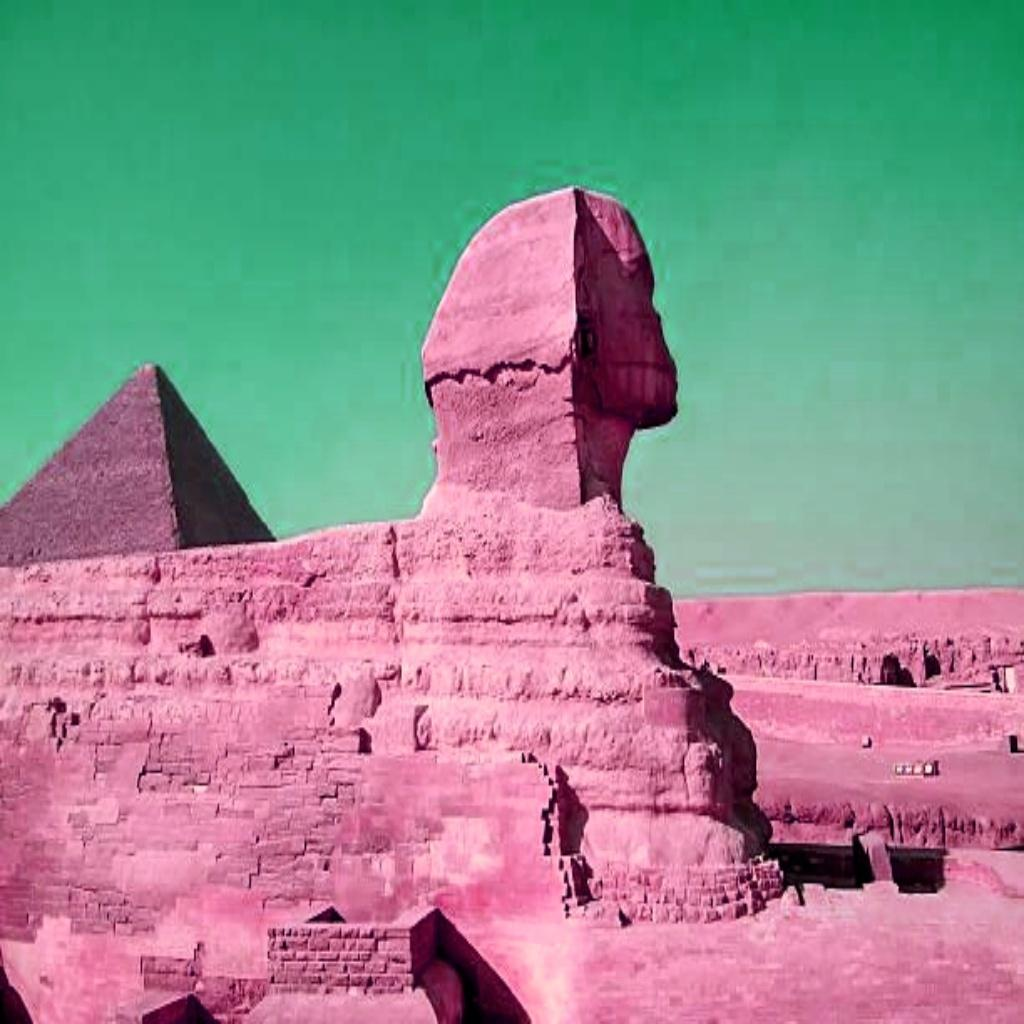Sphinx: (0, 181, 780, 1014), (416, 181, 680, 517)
